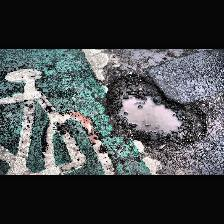pothole: (104, 74, 206, 148)
